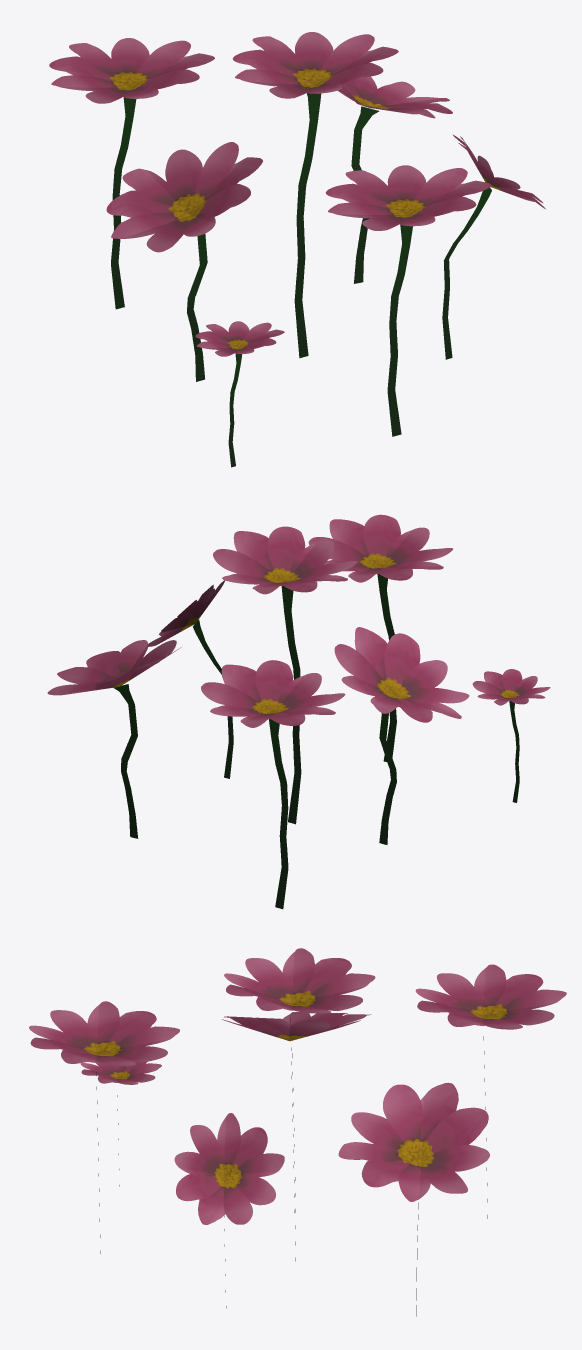
The model's file is Plant005.fbx.
3 views of the same model, one above another, from view 1: azimuth 30°, elevation 25°; view 2: azimuth 150°, elevation 25°; view 3: azimuth 270°, elevation 25° (orthographic). The views are drawn at different scales.
Visible parts, largest first — view 1: Plant; view 2: Plant; view 3: Plant.
Boxes of the visible parts, bbox=[...] form: Plant: bbox=[49, 32, 545, 467]; Plant: bbox=[47, 514, 550, 909]; Plant: bbox=[29, 948, 566, 1316].
Size of the model in its own units: 24.14 by 17.36 by 29.34.
